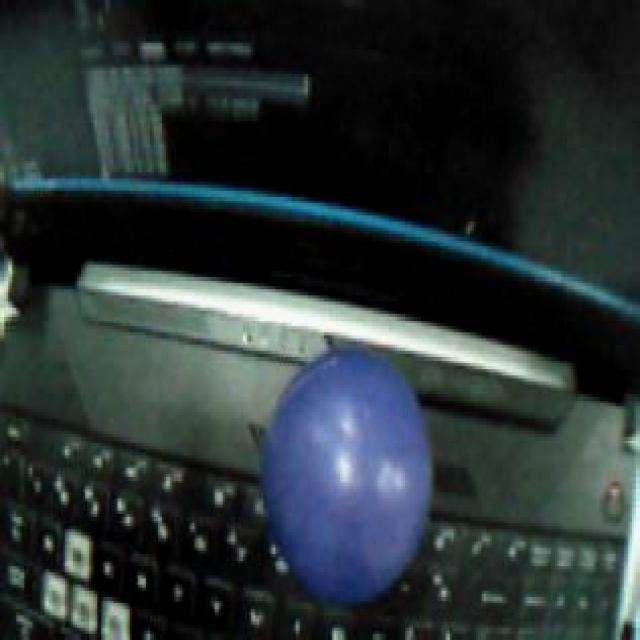BallPurple: (262, 349, 433, 603)
